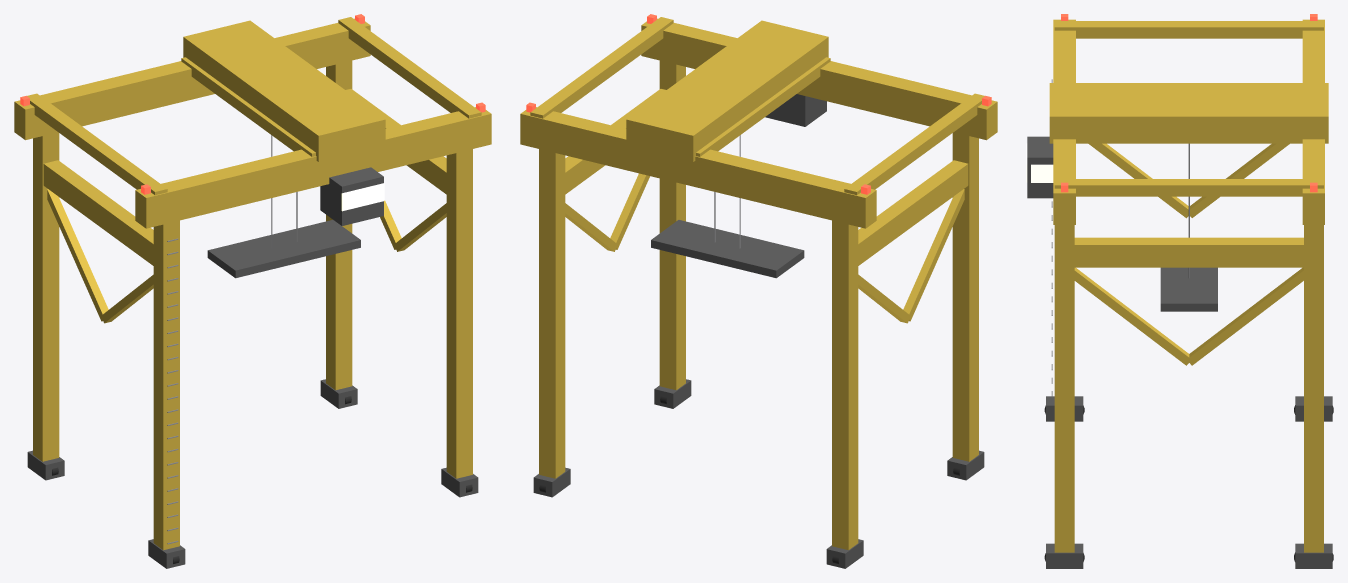
File: crane.glb
3 views of the same model, side by side, from view 1: azimuth 30°, elevation 25°; view 2: azimuth 150°, elevation 25°; view 3: azimuth 270°, elevation 25° (orthographic). The views are drawn at different scales.
Visible parts, largest first — view 1: crane, dark, windows; view 2: crane, dark; view 3: crane, dark, windows.
Part boxes in pixels (box(x1,y1,x2,y2)): crane: box(14, 17, 491, 550); dark: box(27, 135, 478, 568); windows: box(341, 183, 384, 211); crane: box(520, 17, 997, 550); dark: box(533, 94, 984, 568); crane: box(1049, 19, 1328, 552); dark: box(1027, 79, 1333, 568); windows: box(1026, 143, 1053, 182).
Bounding box in the file's own units: 16.5 × 18 × 12.35.
